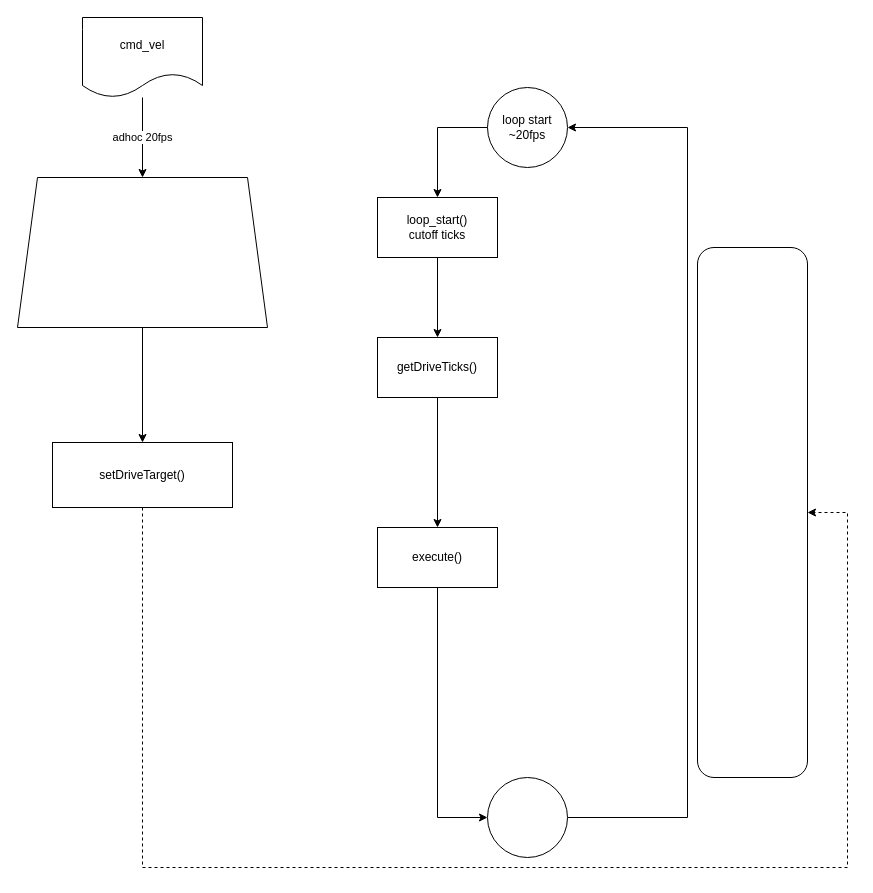
Image size: 873x893. Some labels were removed from this diagram. Here are the shapes that lost their labels. From the top down, the centre of each, then its label:
At point (142, 252): "main.cpp calculate valocity per caster include individual caster's debt".
At point (752, 512): "sleep to fit 20Hz".
At point (527, 817): "loop end".
